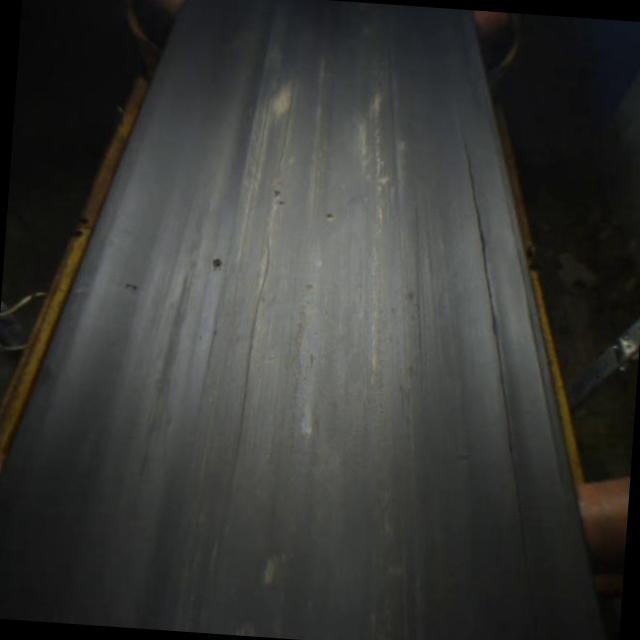Hole: (211, 258, 226, 270)
Puncture: (324, 210, 335, 222), (272, 201, 288, 207), (272, 189, 282, 198)
Tear: (450, 121, 533, 564), (215, 238, 279, 556)
